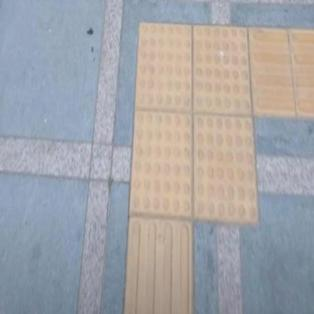Podoctatil: (90, 0, 310, 298), (124, 219, 196, 313), (251, 29, 314, 116)
